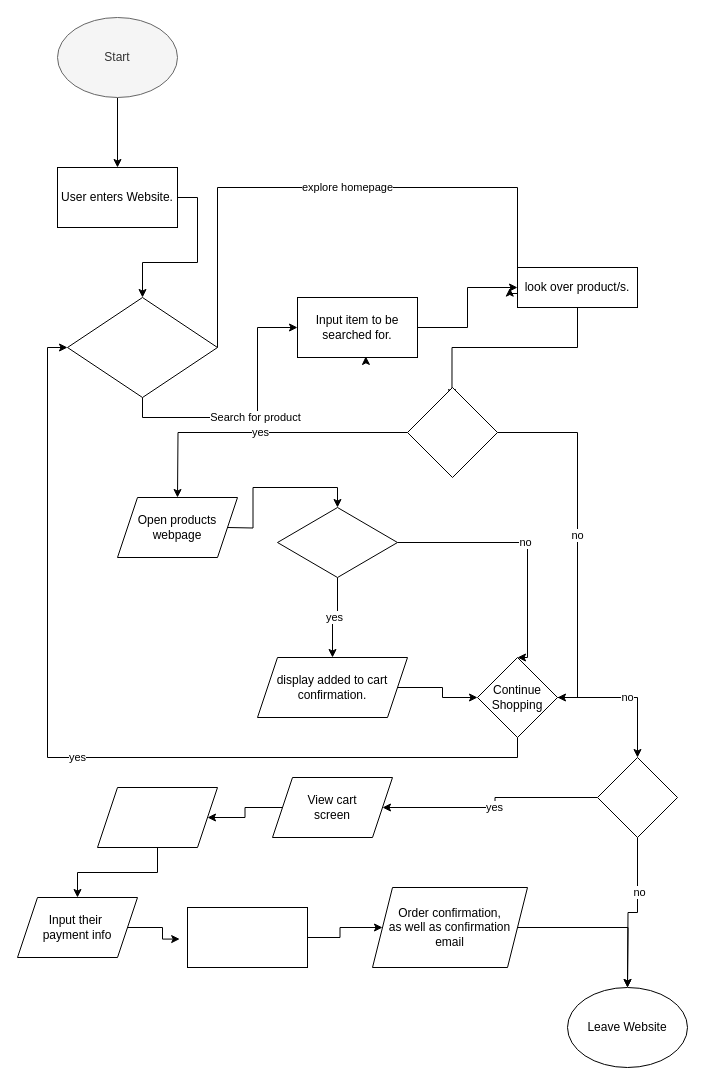
The diagram is 705 pixels wide and 1085 high, and some of its shapes have lost their labels. The shapes that lost their labels are listed below. From the top down, each one's box as (x1, y1, x2, y2) in pixels, then its label:
(66, 296, 218, 398): Search for product or explore homepage,
(406, 386, 498, 478): View specific product.
(276, 506, 398, 578): add product to cart.
(96, 786, 218, 848): View payment screen
(596, 756, 678, 838): checkout?
(186, 906, 308, 968): Pay
